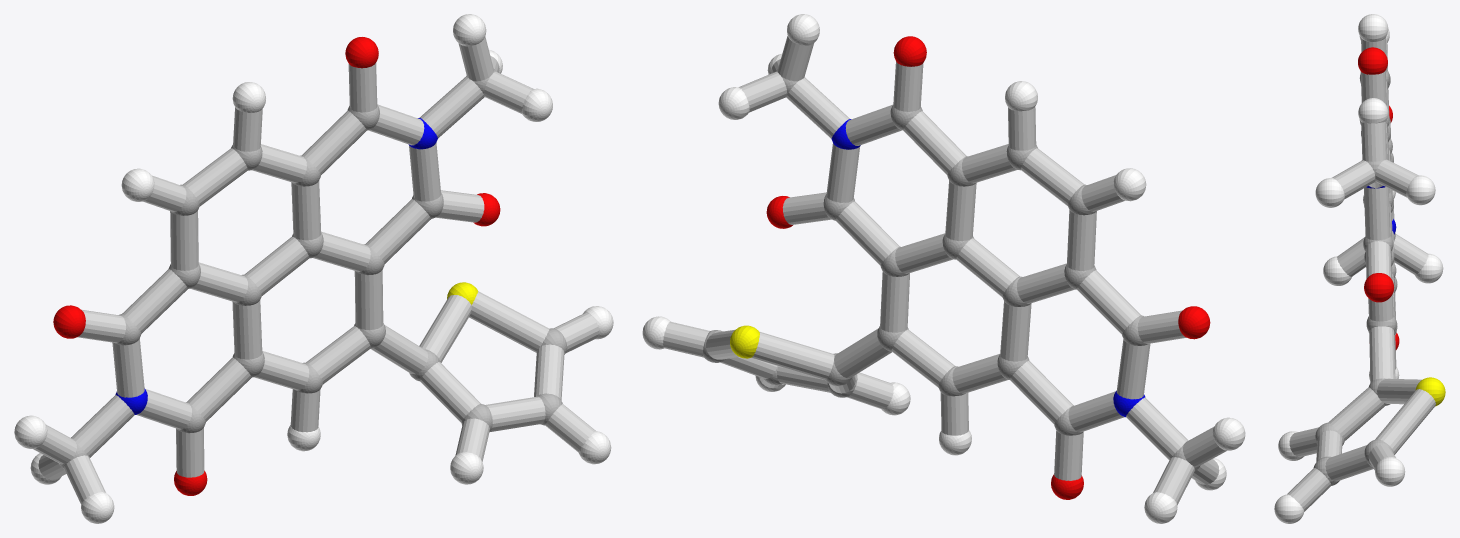
The model's file is Dimethyl_Naphthalene_Dicarboximide_Phi_30_Theta_130_Thiophene.glb.
3 renders of one model, left to right at view 1: azimuth 30°, elevation 25°; view 2: azimuth 150°, elevation 25°; view 3: azimuth 270°, elevation 25°, orthographic. The views are drawn at different scales.
Parts seen in each view (by area): view 1: grp14119, grp7241, grp1, grp12309, grp11585; view 2: grp14119, grp7241, grp1, grp12309, grp13757, grp11585; view 3: grp14119, grp7241, grp1, grp12309, grp13757.
Boxes of the visible parts, x1,y1,x2,y2 form: grp14119: [33, 36, 599, 504]; grp7241: [14, 14, 613, 523]; grp1: [59, 69, 567, 468]; grp12309: [53, 37, 500, 495]; grp11585: [115, 118, 437, 414]; grp14119: [663, 36, 1226, 504]; grp7241: [642, 14, 1245, 523]; grp1: [703, 69, 1200, 471]; grp12309: [766, 36, 1210, 499]; grp13757: [730, 325, 759, 358]; grp11585: [831, 119, 1145, 417]; grp14119: [1287, 37, 1435, 511]; grp7241: [1274, 14, 1443, 523]; grp1: [1313, 70, 1397, 485]; grp12309: [1358, 47, 1399, 349]; grp13757: [1415, 377, 1445, 406].
Bounding box in the file's own units: 12.39 × 8.61 × 3.4.
